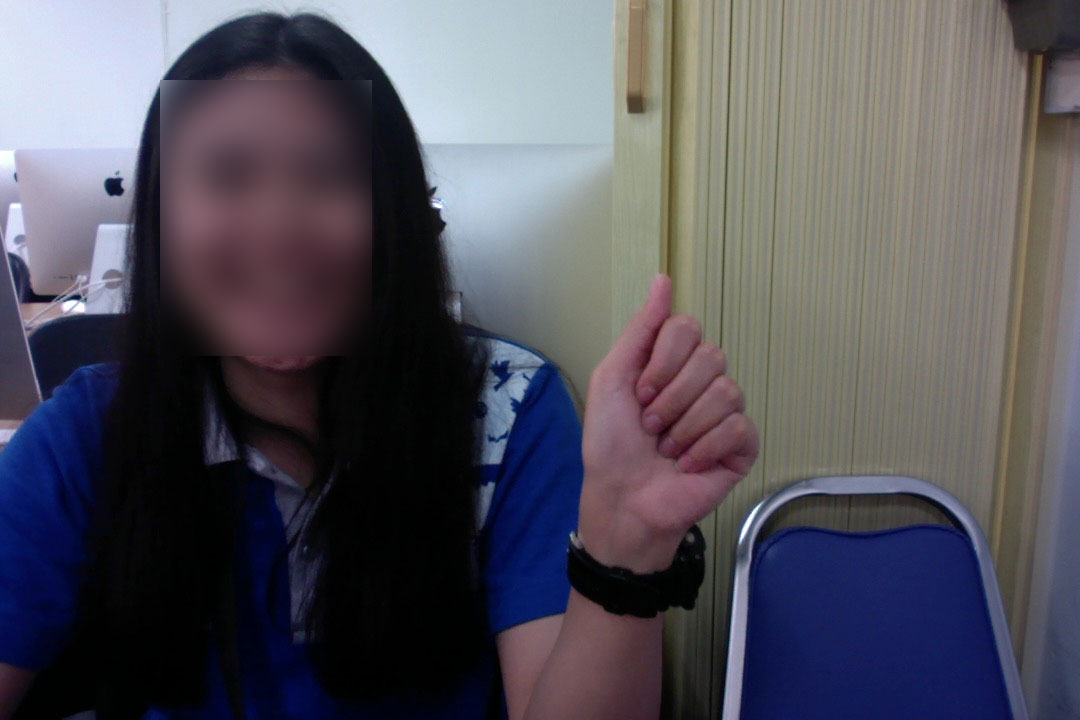or: (567, 264, 765, 538)
